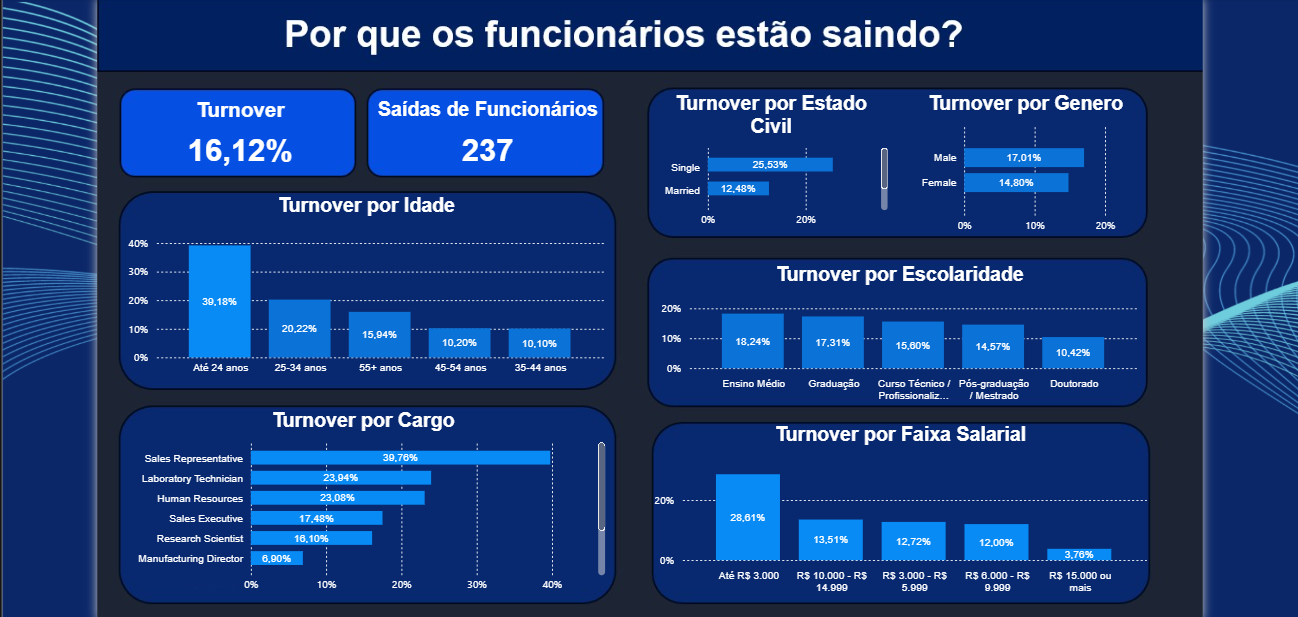

This screenshot's page, from the dashboard's own definition file:
{"tool":"powerbi","page":{"name":"Análise do Turnover","canvas":[1280,720],"ordinal":1},"visuals":[{"type":"clusteredColumnChart","title":"Turnover por Idade","fields":{"Y":["Sum(hr_ibm vw_turnover_idade (2).Taxa_turnover)"],"Category":["hr_ibm vw_turnover_idade (2).faixa_etaria"]},"box":[31.4,227.1,561.4,217.1],"z":0},{"type":"clusteredColumnChart","title":"Turnover por Faixa Salarial","fields":{"Y":["Sum(hr_ibm vw_turnover_por_salario.taxa)"],"Category":["hr_ibm vw_turnover_por_salario.faixa_salarial"]},"box":[640,491.4,580,205.7],"z":1000},{"type":"card","title":"Turnover","fields":{"Values":["Medidas (2).Taxa de Turnover"]},"box":[61.8,115.5,209.1,91.8],"z":2000},{"type":"card","title":"Saídas de Funcionários","fields":{"Values":["Medidas (2).Desligados"]},"box":[310.9,115.5,281.8,91.8],"z":3000},{"type":"clusteredBarChart","title":"Turnover por Estado Civil","fields":{"Category":["hr_ibm turnover_estado_civil.Estado_civil"],"Y":["Sum(hr_ibm turnover_estado_civil.taxa)"]},"box":[640,108.4,280.5,165.7],"z":4000},{"type":"clusteredBarChart","title":"Turnover por Genero","fields":{"Category":["hr_ibm turnover_genero.genero"],"Y":["Sum(hr_ibm turnover_genero.taxa)"]},"box":[947.3,108.4,256.3,172.1],"z":5000},{"type":"clusteredBarChart","title":"Turnover por Cargo","fields":{"Category":["hr_ibm turnover_por_cargo.cargo"],"Y":["Sum(hr_ibm turnover_por_cargo.taxa)"]},"box":[22.9,475.7,570,221.4],"z":6000},{"type":"clusteredColumnChart","title":"Turnover por Escolaridade","fields":{"Category":["hr_ibm vw_turnover_escolaridade.escolaridade"],"Y":["Sum(hr_ibm vw_turnover_escolaridade.taxa)"]},"box":[648.6,307,562.2,168.8],"z":6001}]}

Visuals, with their boxes on the page's 1280x720 design canvas (x1, y1, x2, y2). These are canvas units, not pixel positions in the 1298x617 screenshot, which may show the page scaled, cropped or inside an application window:
"Turnover por Idade" clusteredColumnChart: crop(31, 227, 593, 444)
"Turnover por Faixa Salarial" clusteredColumnChart: crop(640, 491, 1220, 697)
"Turnover" card: crop(62, 116, 271, 207)
"Saídas de Funcionários" card: crop(311, 116, 593, 207)
"Turnover por Estado Civil" clusteredBarChart: crop(640, 108, 920, 274)
"Turnover por Genero" clusteredBarChart: crop(947, 108, 1204, 280)
"Turnover por Cargo" clusteredBarChart: crop(23, 476, 593, 697)
"Turnover por Escolaridade" clusteredColumnChart: crop(649, 307, 1211, 476)
